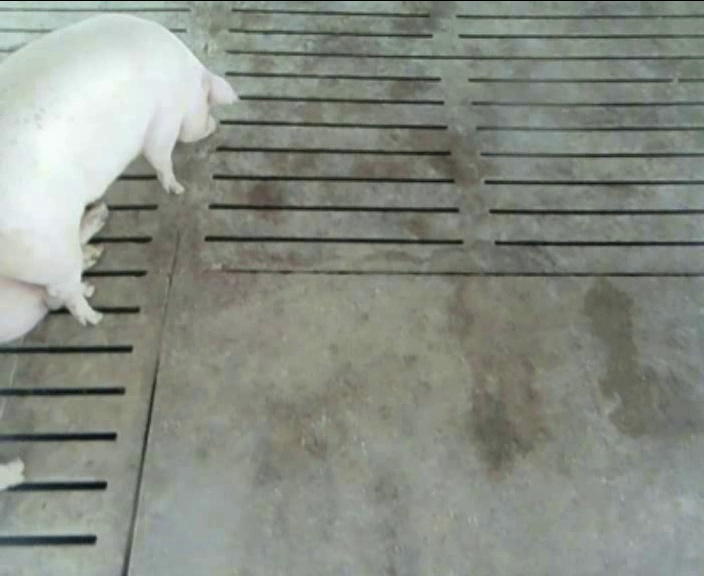pig: (0, 14, 236, 324)
